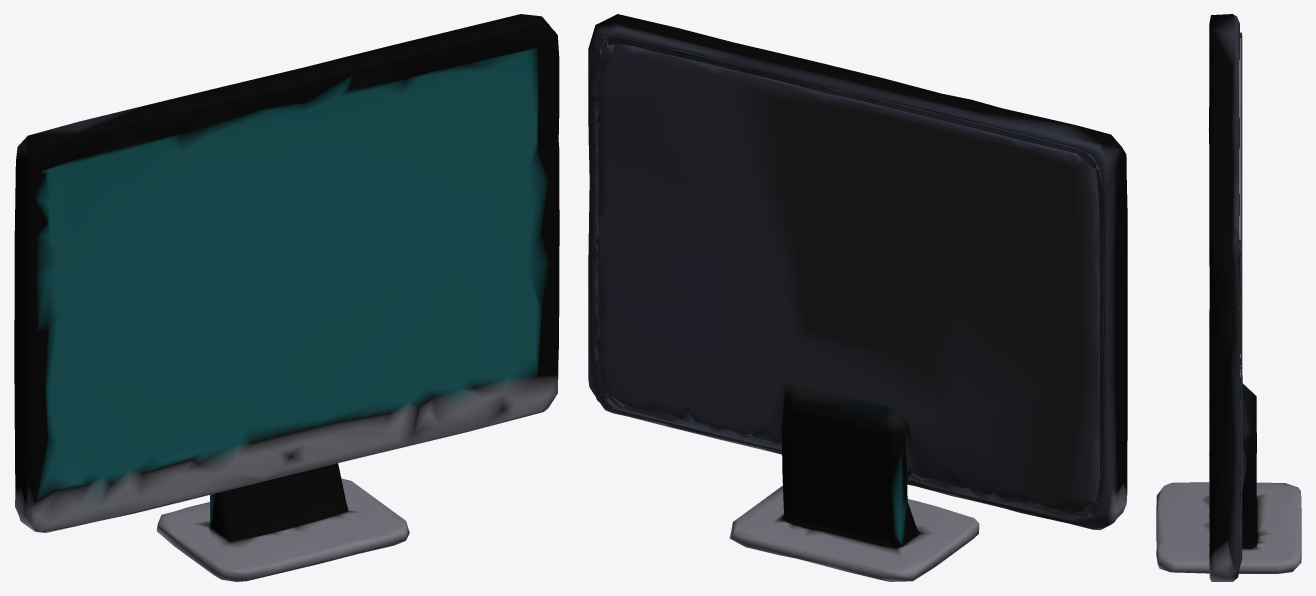
Rendered from gen3d-computer-monitor-lod0.glb.
3 views of the same model, side by side, from view 1: azimuth 30°, elevation 25°; view 2: azimuth 150°, elevation 25°; view 3: azimuth 270°, elevation 25° (orthographic). The views are drawn at different scales.
Visible parts, largest first — view 1: part_0; view 2: part_0; view 3: part_0.
Boxes of the visible parts, box(x1,y1,x2,y2) form: part_0: box(14, 14, 559, 581); part_0: box(588, 14, 1127, 581); part_0: box(1156, 14, 1301, 581).
Size of the model in its own units: 1.21 by 0.997 by 0.3191.
